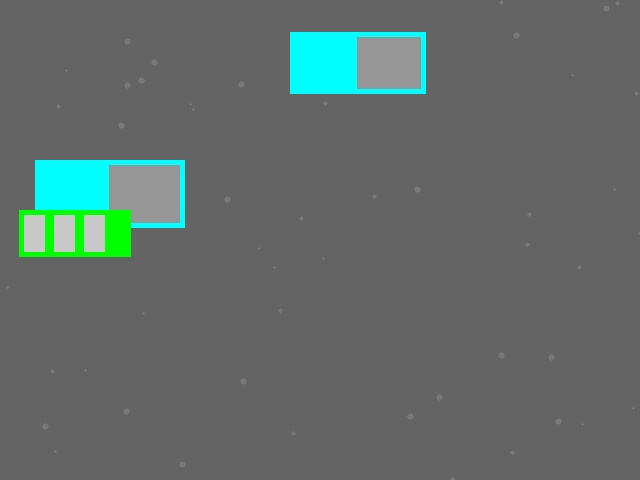bus: (19, 210, 130, 256)
truck: (35, 160, 184, 227), (290, 32, 425, 93)
